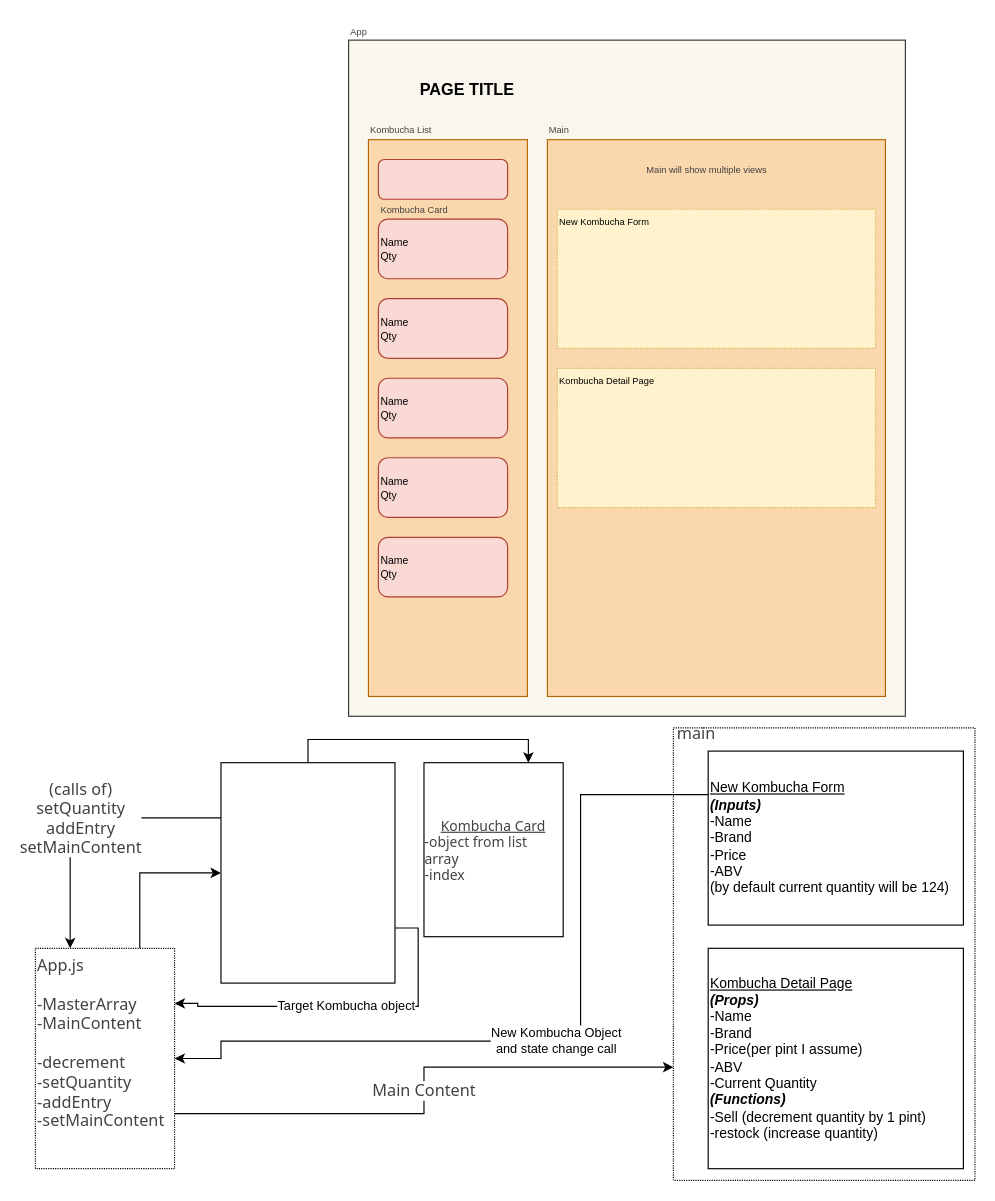
This 995x1201 diagram has some shape labels left out. The shapes that lost their labels are listed below. From the top down, each one's centre as x and y in pixels, then its label:
At point (442, 178): "+Kombucha".
At point (307, 872): "Kombucha List (Props) -Kombucha list Array (Functions) -new".
